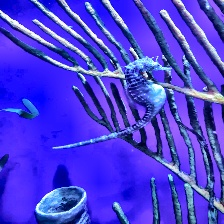seahorse: (1, 0, 223, 175)
